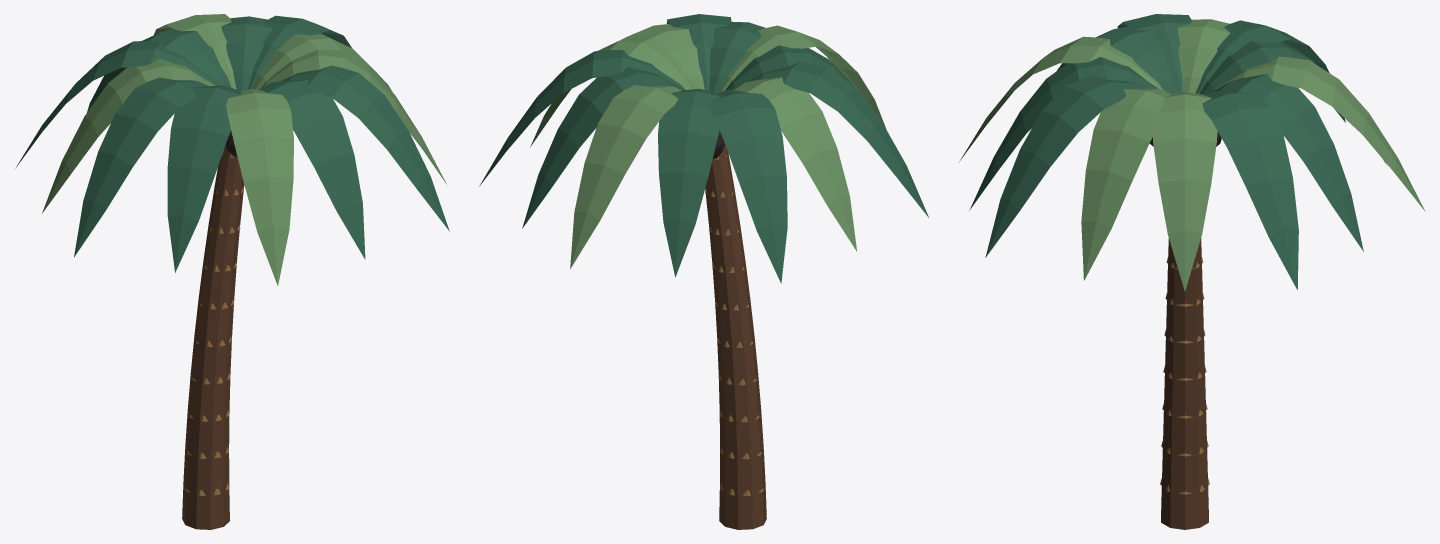
The model's file is PirateCove_WindPalm_Showcase.glb.
3 renders of one model, left to right at view 1: azimuth 30°, elevation 25°; view 2: azimuth 150°, elevation 25°; view 3: azimuth 270°, elevation 25°, orthographic. The views are drawn at different scales.
Visible parts, largest first — view 1: PirateCove_WindPalm_Showcase; view 2: PirateCove_WindPalm_Showcase; view 3: PirateCove_WindPalm_Showcase.
Boxes of the visible parts, x1=… form: PirateCove_WindPalm_Showcase: x1=15, y1=14, x2=449, y2=529; PirateCove_WindPalm_Showcase: x1=479, y1=14, x2=928, y2=529; PirateCove_WindPalm_Showcase: x1=959, y1=14, x2=1425, y2=529.
Bounding box in the file's own units: 3.23 × 3.75 × 3.33.
